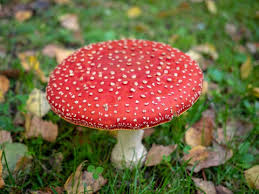Amanita muscaria: (36, 37, 213, 157)
